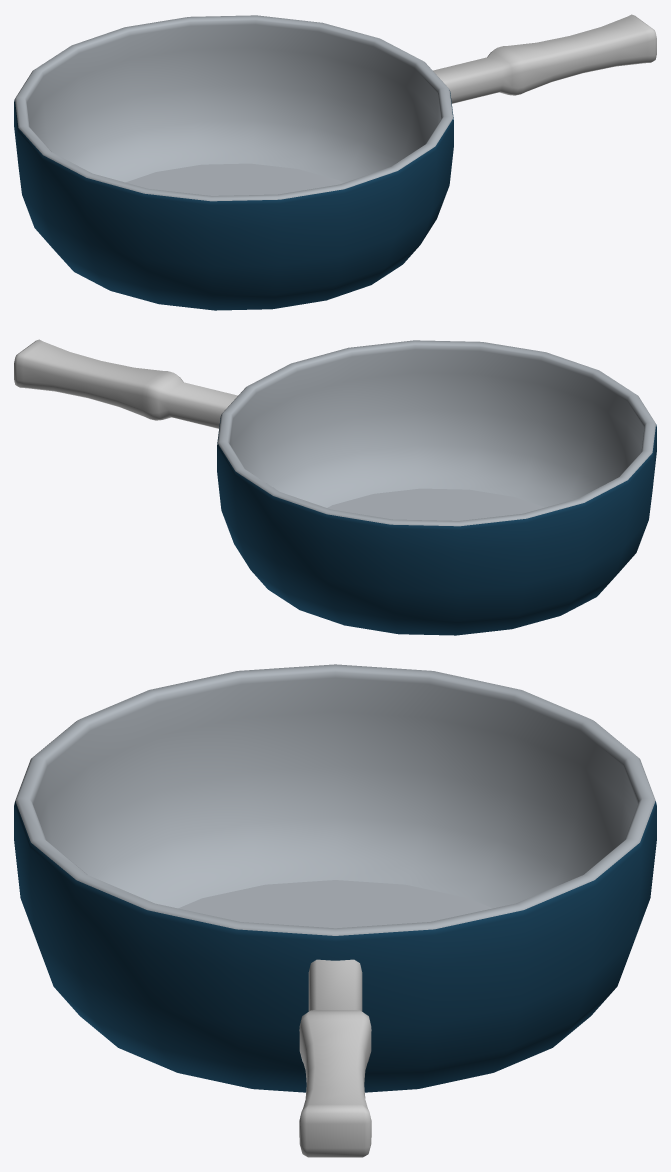
Rendered from Pan-2.fbx.
The picture shows the model from 3 angles, top to bottom: view 1: azimuth 30°, elevation 25°; view 2: azimuth 150°, elevation 25°; view 3: azimuth 270°, elevation 25°; orthographic projection. The views are drawn at different scales.
Parts seen in each view (by area): view 1: Pan-2; view 2: Pan-2; view 3: Pan-2.
Boxes of the visible parts, x1=… form: Pan-2: x1=14, y1=14, x2=656, y2=310; Pan-2: x1=14, y1=339, x2=656, y2=635; Pan-2: x1=14, y1=664, x2=656, y2=1157.
Size of the model in its own units: 0.4728 by 0.1 by 0.3.
